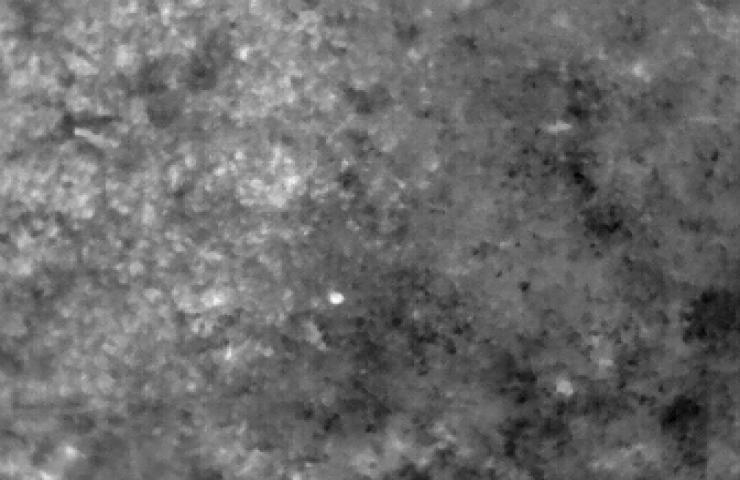landmines: (327, 290, 350, 310)
